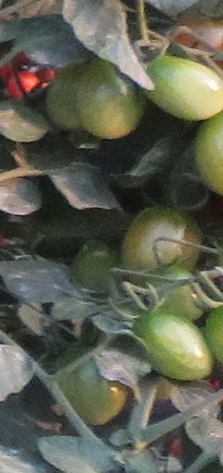green: (54, 343, 128, 426), (75, 57, 146, 141), (136, 51, 223, 119), (133, 311, 212, 383), (120, 203, 207, 268)
